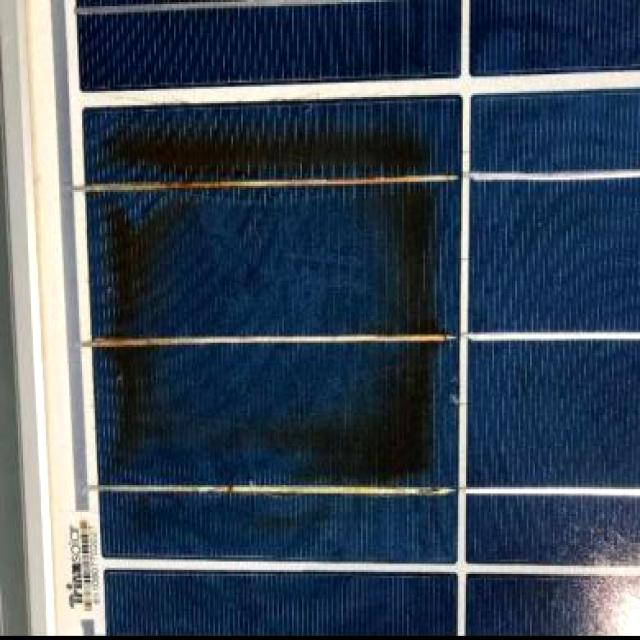shadow: (96, 108, 441, 490)
